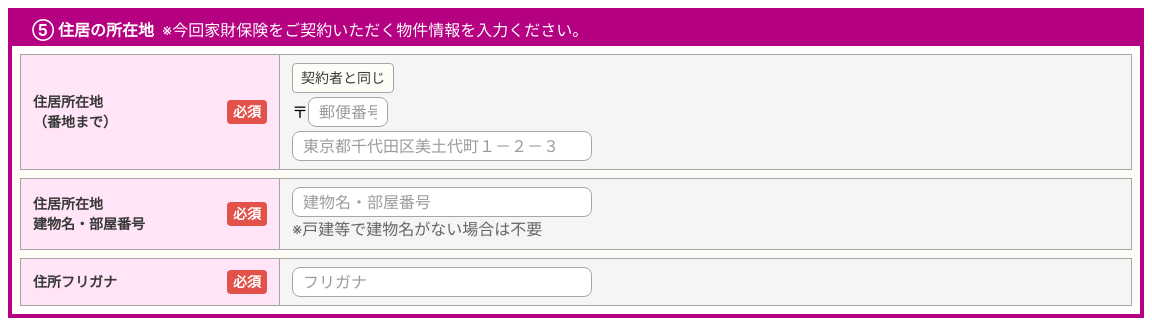
Test: ResidenceLocationSection コンポーネント › 「契約者と同じ」ボタンクリックで住所がコピーされること
Click the button "契約者と同じ" at (343, 78), box [292,63,394,93]
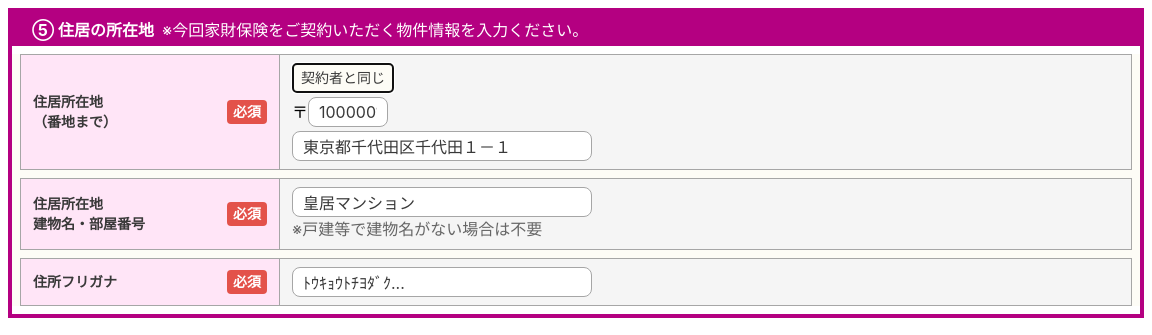
Check: the 1st field with placeholder "郵便番号" holds "1000001", box [308,97,388,127]
